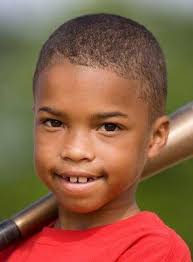person: (31, 13, 170, 216)
